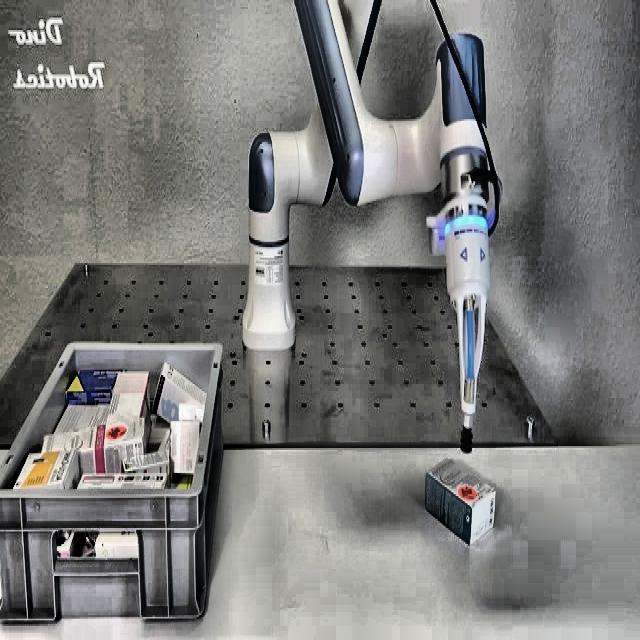robot: (242, 0, 503, 452)
